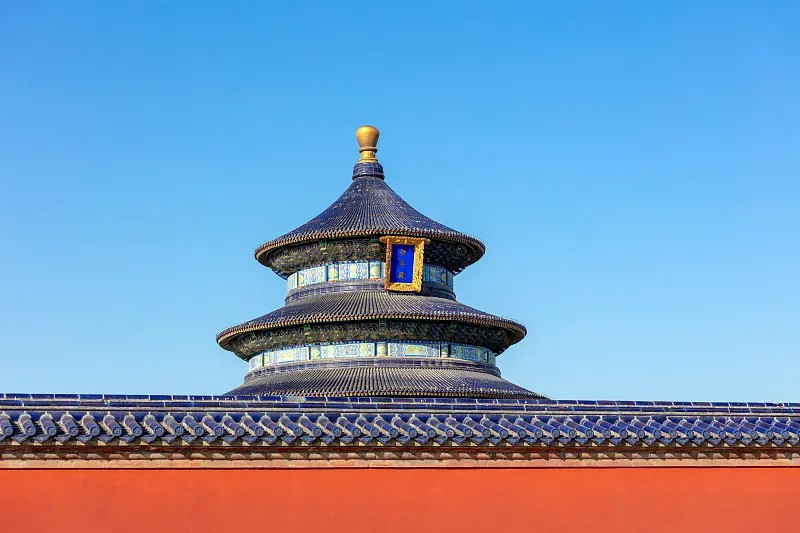Heaven: (213, 127, 551, 400)
